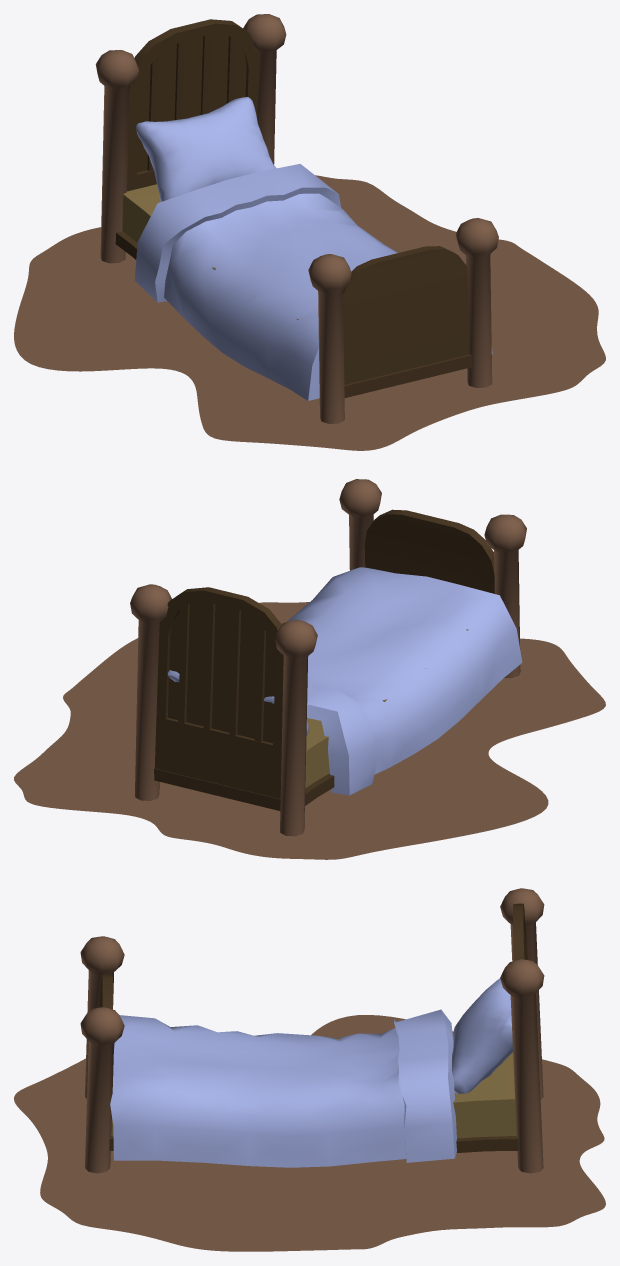
File: LoadingSymbols_Bed_Bed.fbx
3 renders of one model, top to bottom at view 1: azimuth 30°, elevation 25°; view 2: azimuth 150°, elevation 25°; view 3: azimuth 270°, elevation 25°, orthographic.
Visible parts, largest first — view 1: Plane; view 2: Plane; view 3: Plane.
Boxes of the visible parts, box(x1,y1,x2,y2) form: Plane: box(14, 14, 605, 450); Plane: box(14, 479, 605, 859); Plane: box(14, 888, 605, 1251).
Size of the model in its own units: 1033 by 441 by 1091.
